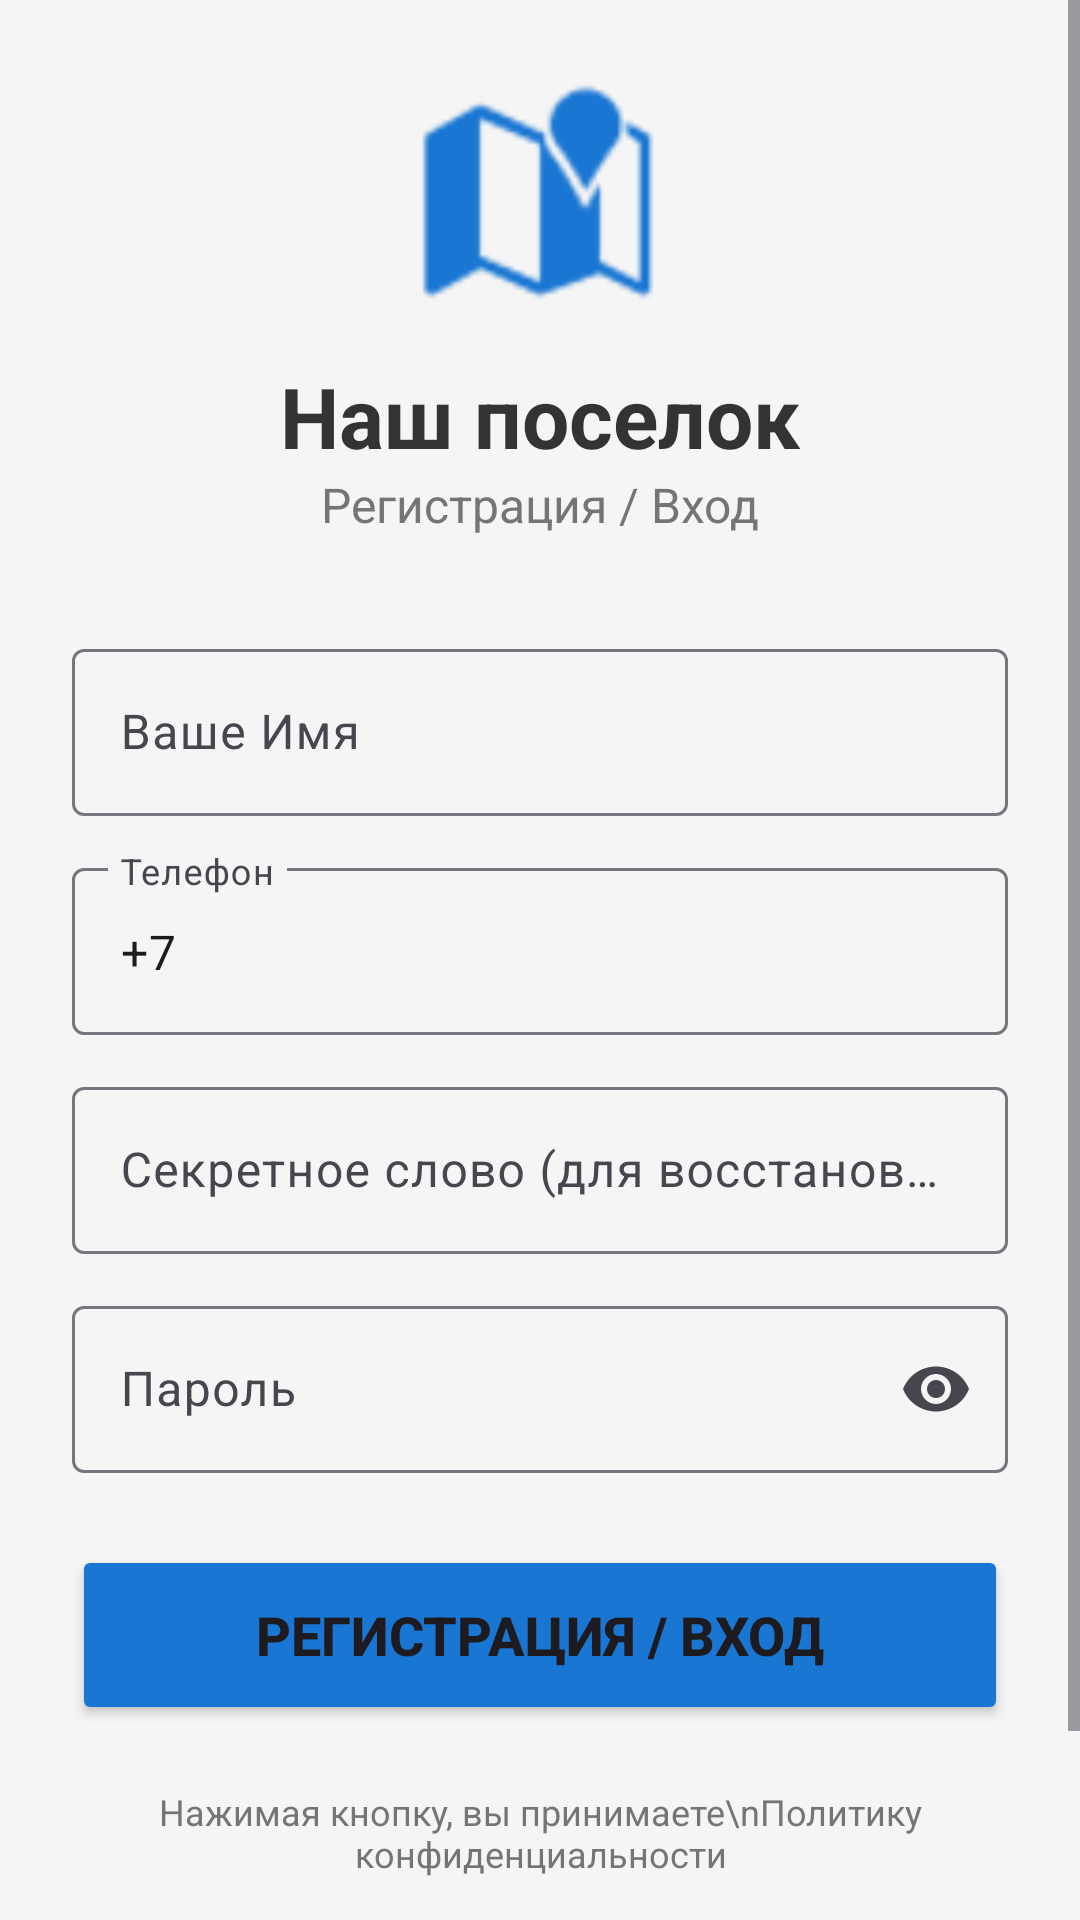

Where icons sit on this 1080×1920 app screen, as box=[x1, y1, x2, y2]:
map: box=[423, 86, 653, 298]
